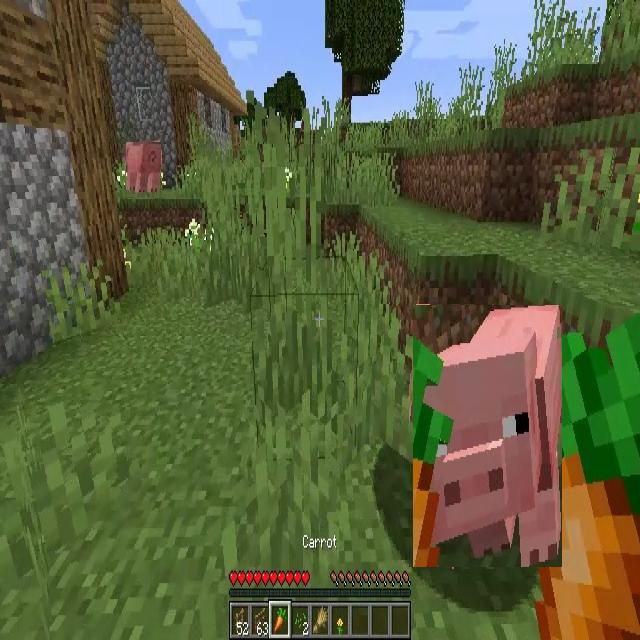pig: (413, 305, 562, 567), (126, 142, 161, 198), (185, 219, 202, 246)
